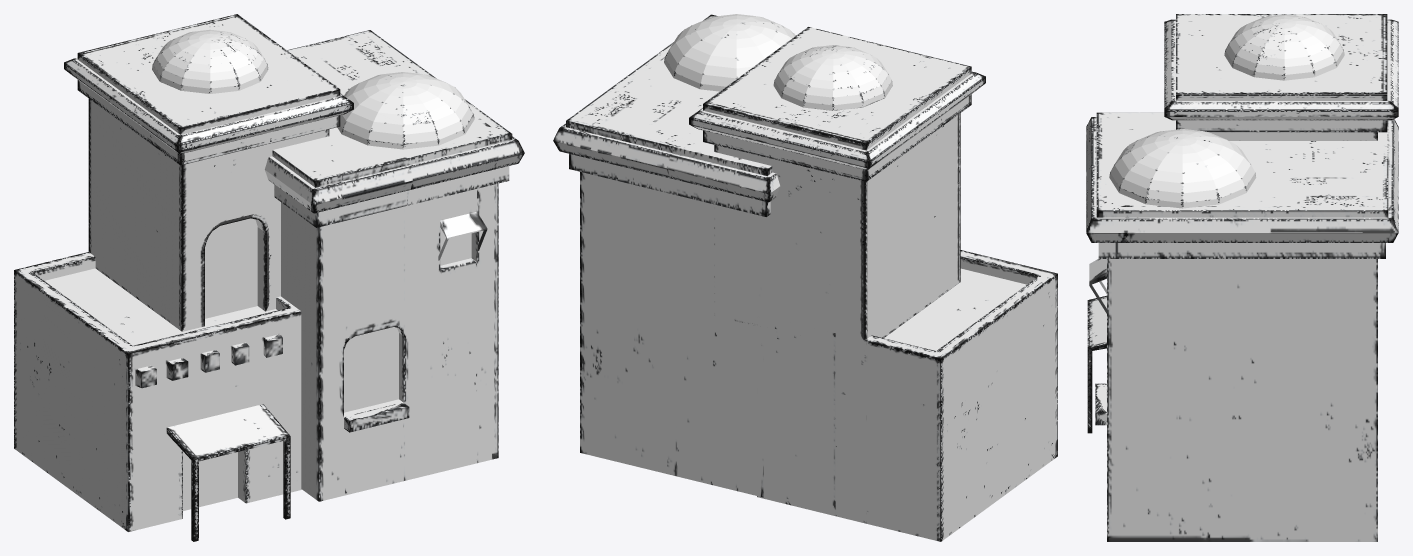
The model's file is EDIF4.fbx.
3 views of the same model, side by side, from view 1: azimuth 30°, elevation 25°; view 2: azimuth 150°, elevation 25°; view 3: azimuth 270°, elevation 25° (orthographic). The views are drawn at different scales.
Visible parts, largest first — view 1: Cube.018, Cube.001, Cube.017, Sphere.002, Sphere.001; view 2: Cube.018, Cube.001, Cube.017, Sphere.002, Sphere.001; view 3: Cube.018, Cube.017, Sphere.002, Sphere.001, Cube.001.
Boxes of the visible parts, <box> form: Cube.018: <box>265,30,524,501</box>; Cube.001: <box>14,252,301,541</box>; Cube.017: <box>64,14,353,331</box>; Sphere.002: <box>337,72,474,149</box>; Sphere.001: <box>152,29,268,93</box>; Cube.018: <box>553,14,780,497</box>; Cube.001: <box>757,250,1057,541</box>; Cube.017: <box>689,27,985,351</box>; Sphere.002: <box>664,14,795,91</box>; Sphere.001: <box>773,45,892,110</box>; Cube.018: <box>1086,112,1398,541</box>; Cube.017: <box>1164,14,1398,140</box>; Sphere.002: <box>1109,129,1256,208</box>; Sphere.001: <box>1224,14,1344,80</box>; Cube.001: <box>1087,295,1106,433</box>.
Size of the model in its own units: 978 by 1032 by 698.
1 material, 1 textured.
